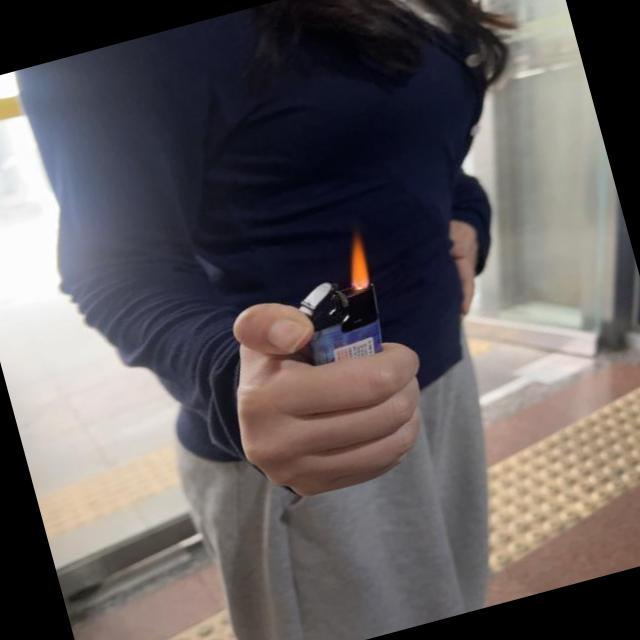Fire: (340, 240, 374, 288)
